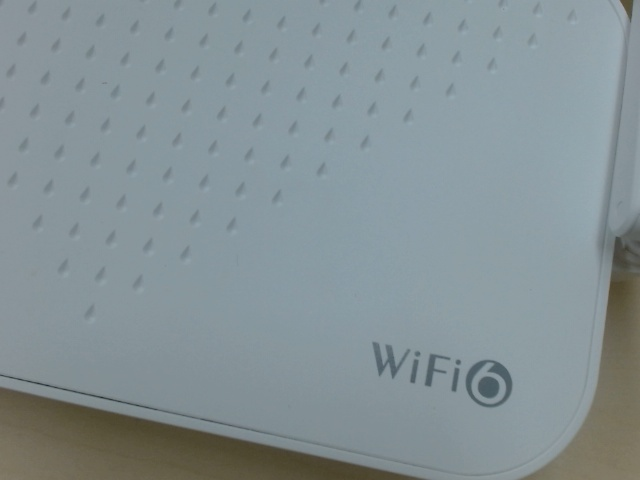AK_ZTEWIFI6: (358, 332, 520, 411)
